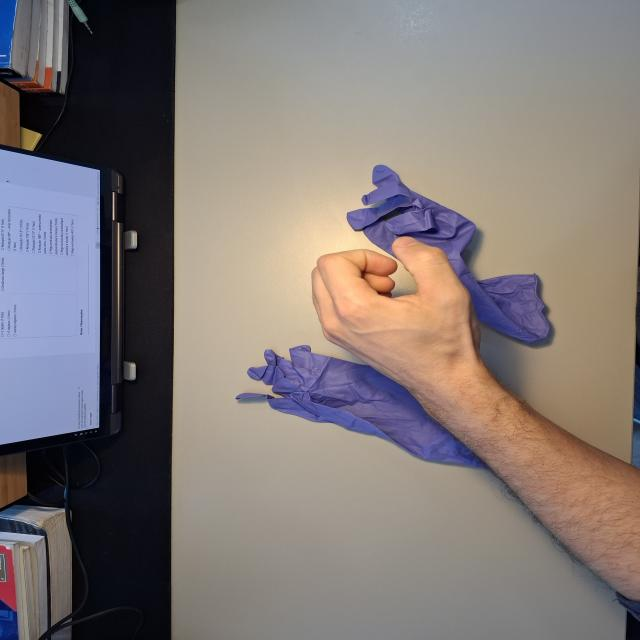glove_off: (308, 235, 492, 402)
